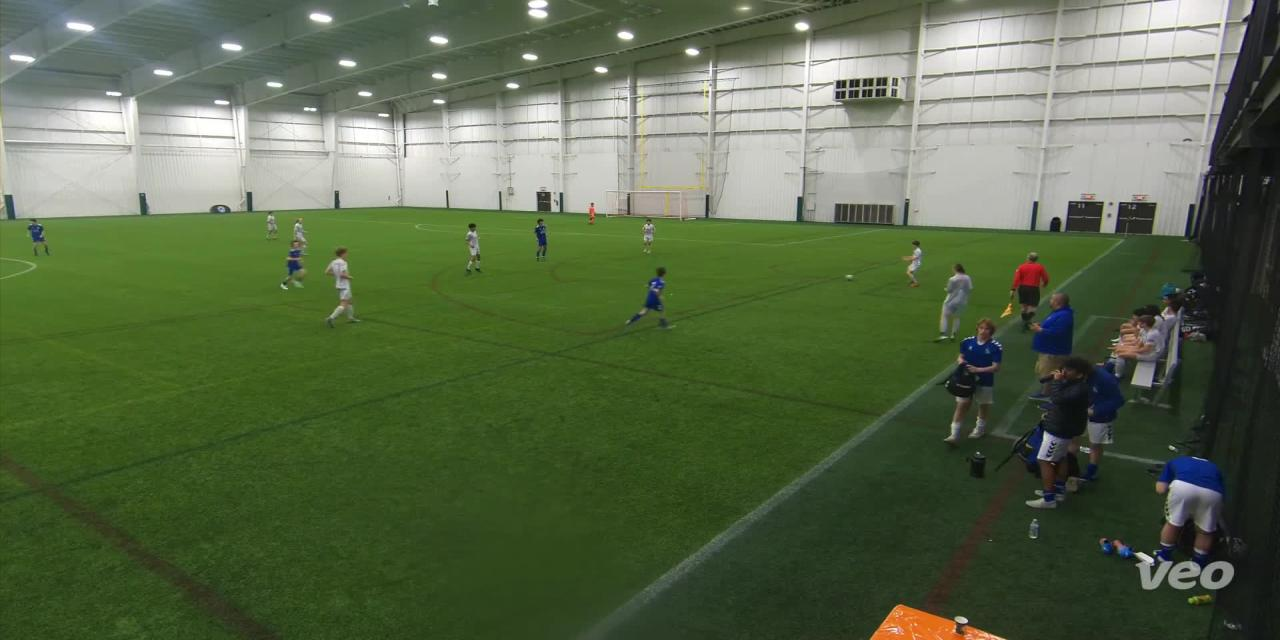goal: (596, 187, 704, 226)
sports ball: (839, 270, 860, 282)
